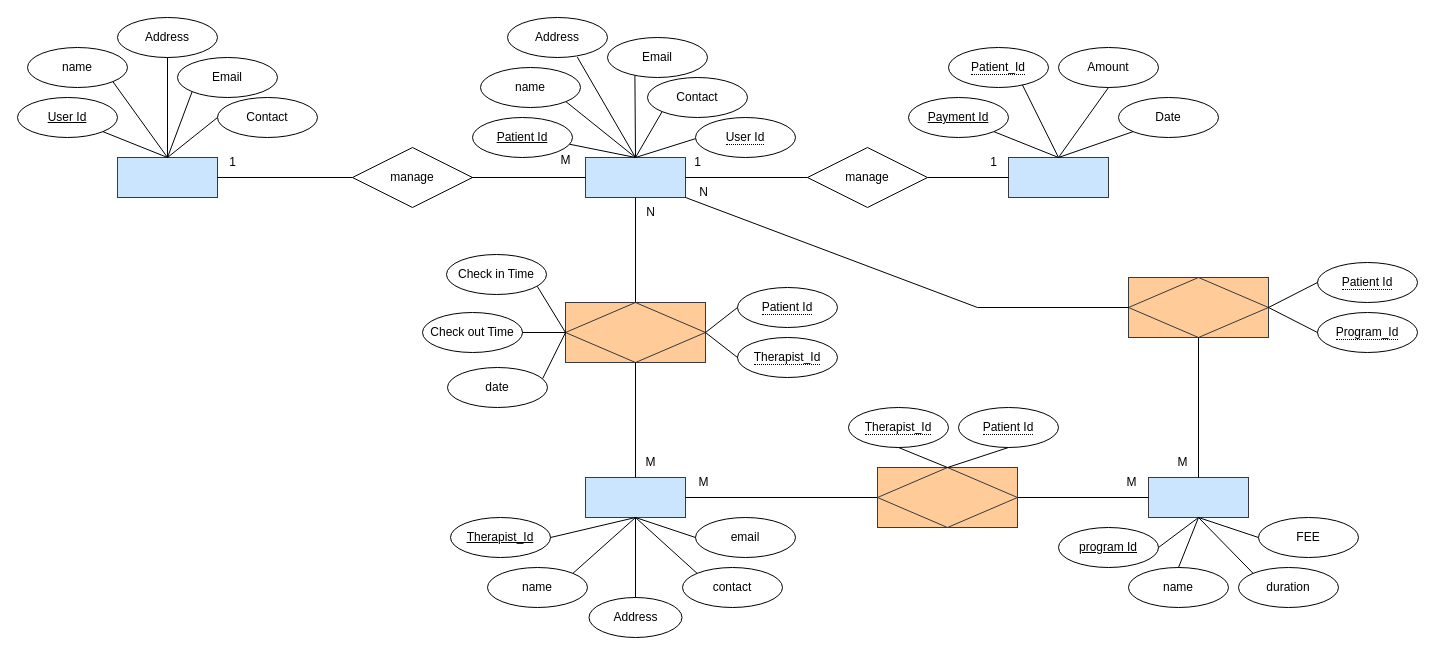
This 1435x655 diagram has some shape labels left out. Each missing label, with the centre of its shape:
Patient: [635,177]
Payment: [1058,177]
Register: [1198,307]
Session: [635,332]
Therapist: [635,497]
Therapist-program: [947,497]
Therapy program: [1198,497]
User: [167,177]
